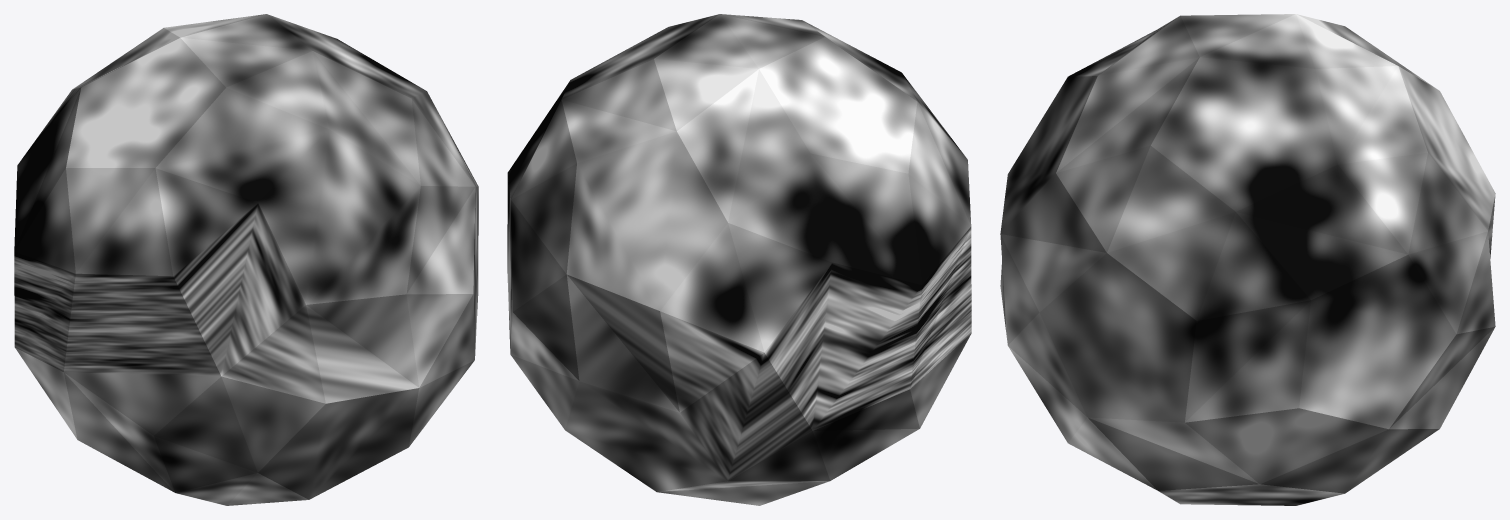
File: rhombicosa_cmbtex.obj
3 views of the same model, side by side, from view 1: azimuth 30°, elevation 25°; view 2: azimuth 150°, elevation 25°; view 3: azimuth 270°, elevation 25° (orthographic). The views are drawn at different scales.
Bounding box in the file's own units: 1.92 × 1.92 × 1.92.
Materials: 1 (1 with a texture image).
